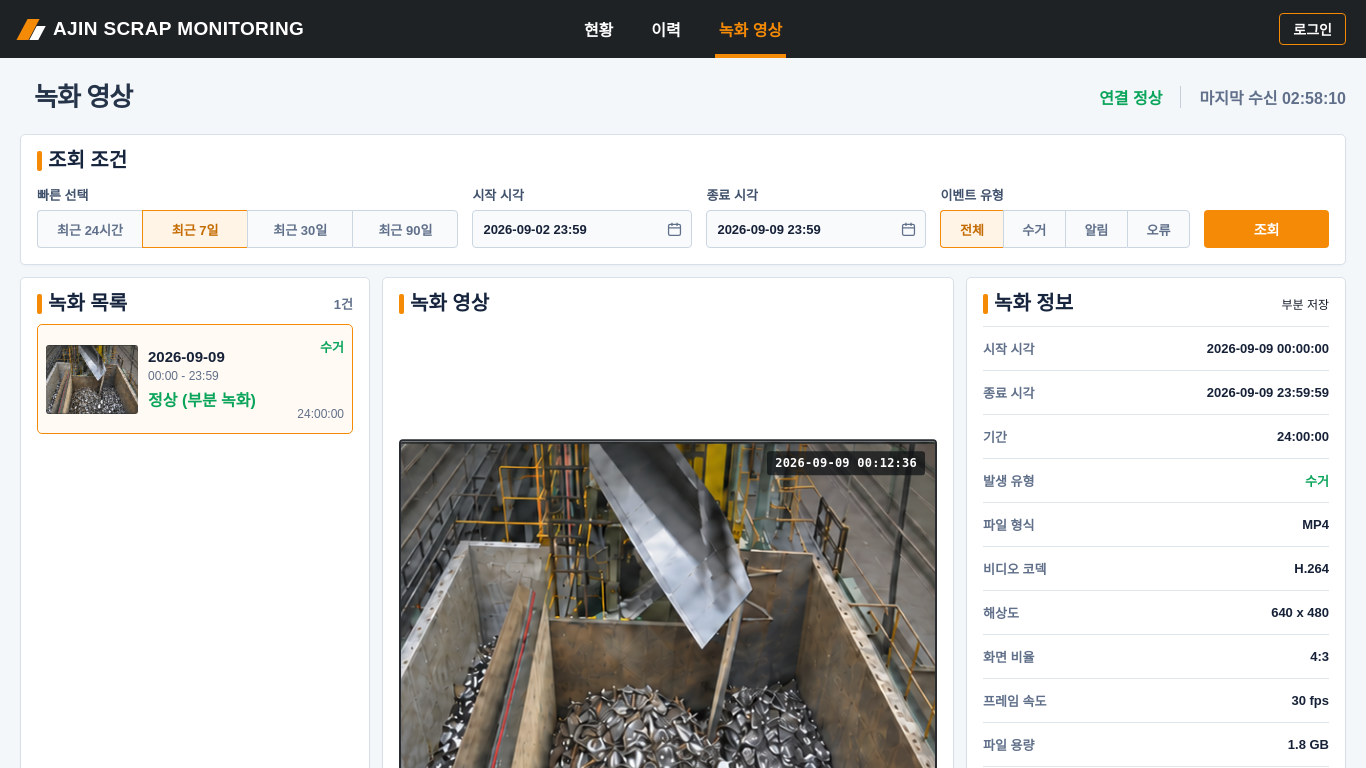
Test case: 녹화 범위 조회 오류와 재시도를 기본 카드 밖에서 처리한다
Click the button "부분 저장".
click(1305, 303)  # box [1282,294,1329,312]
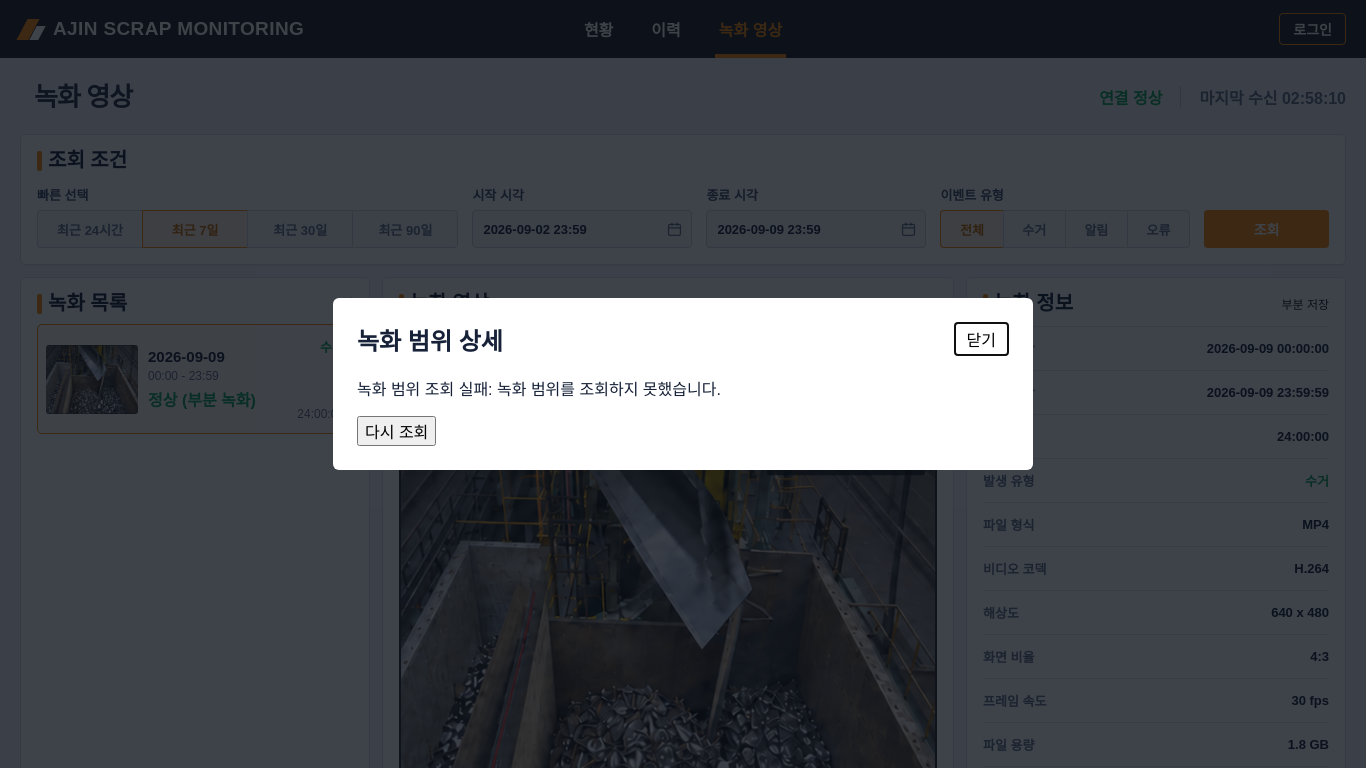
Expected: the message shows "조회 실패", [357,382,497,398]
Click the button "다시 조회".
click(397, 432)  # box [357,416,436,446]
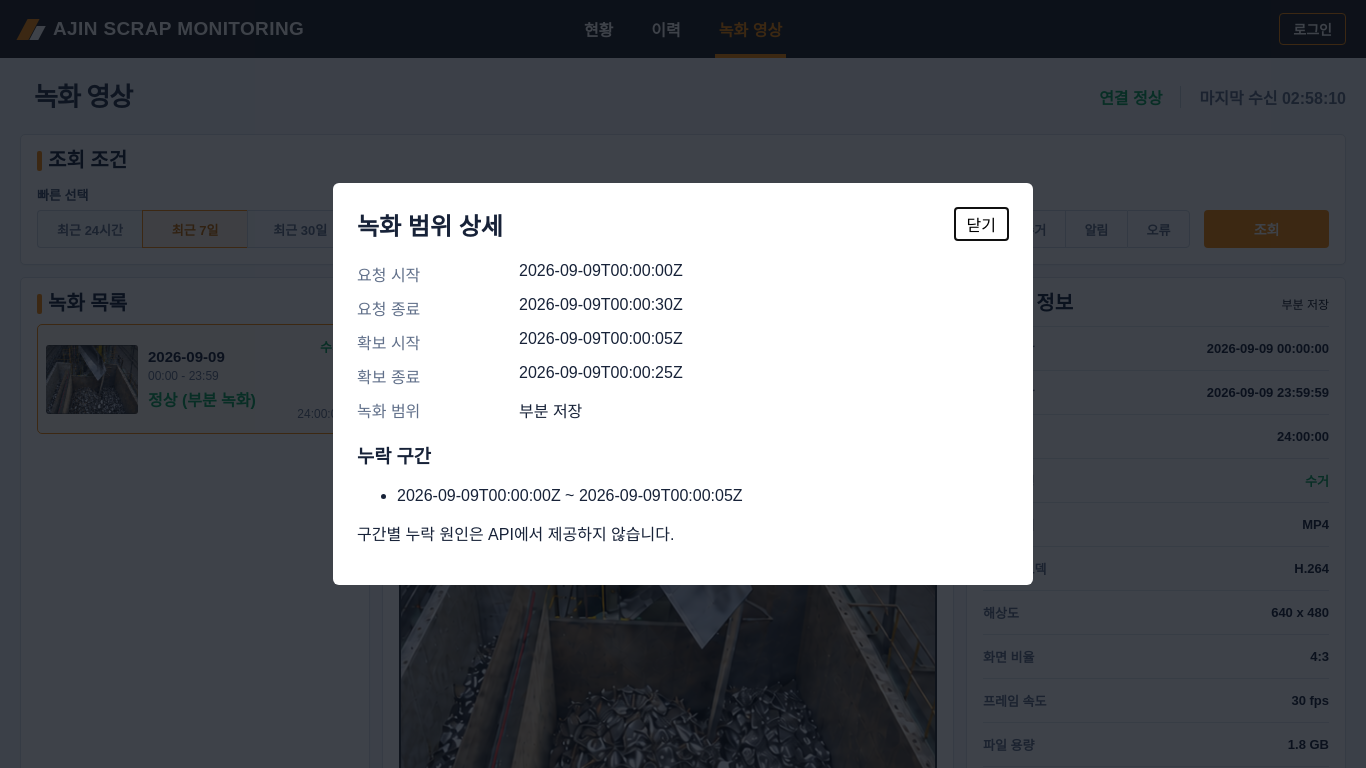
Expected: the text "2026-09-09T00:00:00Z" is shown, [519,262,683,279]
